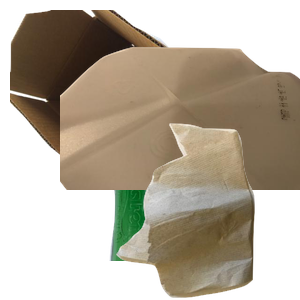cardboard: (10, 10, 218, 190)
glass: (107, 120, 278, 300)
plastic: (60, 44, 300, 224)
trash: (114, 121, 300, 300)
